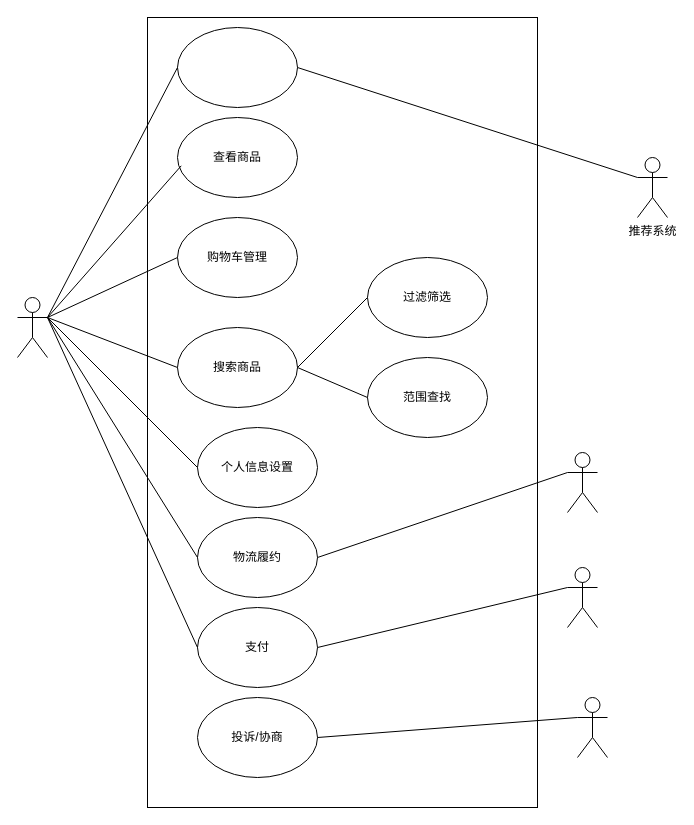
Some shapes in this 694 by 825 pixel diagram are drawn without their labels. Here are the shapes that lost their labels. From the top down, the centre of each, then its label:
At (x=237, y=67): "首页商品展示".
At (x=32, y=327): "客户".
At (x=582, y=482): "物流".
At (x=582, y=597): "第三方支付平台".
At (x=592, y=727): "客服".
